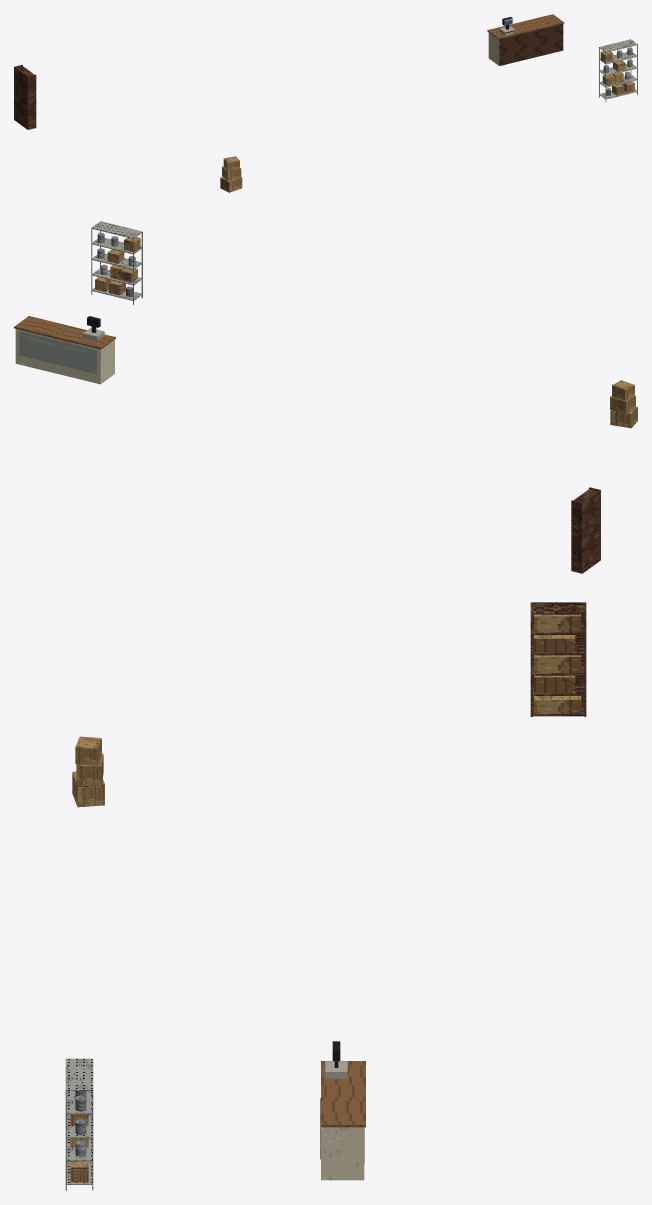
Rendered from COM_Storefront_B_Furnishing.glb.
3 renders of one model, top to bottom at view 1: azimuth 30°, elevation 25°; view 2: azimuth 150°, elevation 25°; view 3: azimuth 270°, elevation 25°, orthographic. The views are drawn at different scales.
Visible parts, largest first — view 1: COM_Storefront_B_Furnishing_Mesh; view 2: COM_Storefront_B_Furnishing_Mesh; view 3: COM_Storefront_B_Furnishing_Mesh.
Part boxes in pixels (x1,y1,x2,y2): COM_Storefront_B_Furnishing_Mesh: (14,14,637,192); COM_Storefront_B_Furnishing_Mesh: (14,221,637,573); COM_Storefront_B_Furnishing_Mesh: (65,602,586,1190).
Size of what is drawn, in the model's own units: 18.49 by 1.9 by 8.44.
6 materials, 6 textured.
